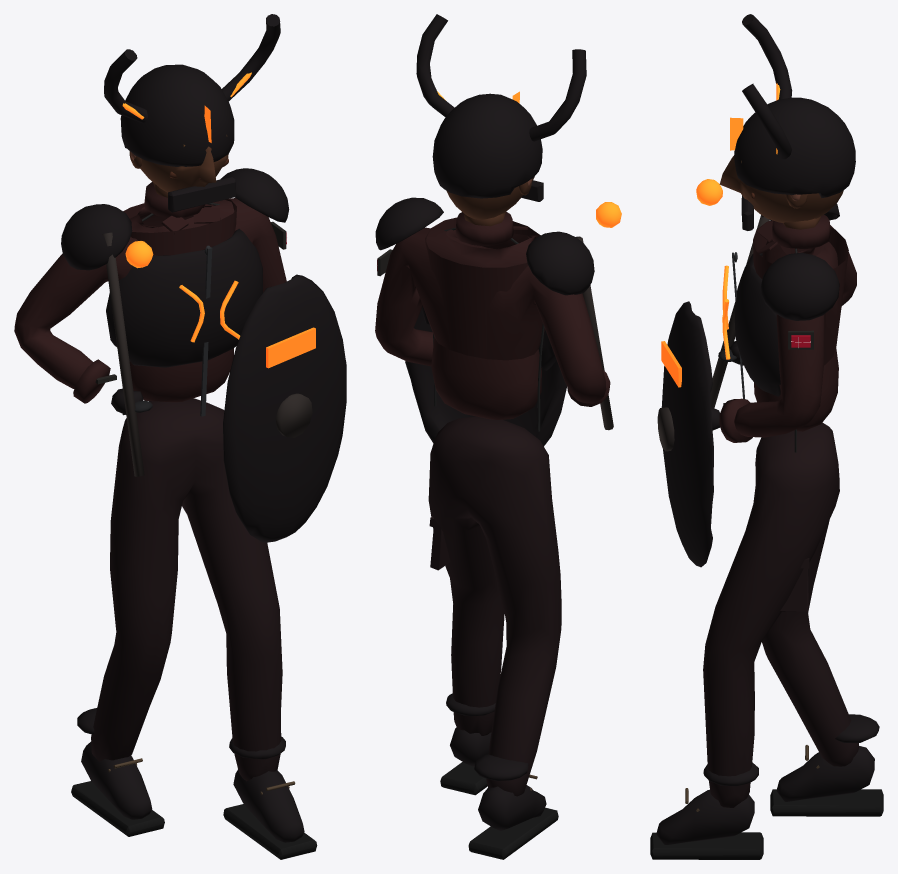
The model's file is enhed_lava.glb.
The picture shows the model from 3 angles, left to right: view 1: azimuth 30°, elevation 25°; view 2: azimuth 150°, elevation 25°; view 3: azimuth 270°, elevation 25°; orthographic projection. The views are drawn at different scales.
Parts seen in each view (by area): view 1: krop_net; view 2: krop_net; view 3: krop_net.
Part boxes in pixels (x1=…): krop_net: x1=14, y1=14, x2=346, y2=859; krop_net: x1=375, y1=14, x2=621, y2=859; krop_net: x1=650, y1=14, x2=883, y2=859.
Bounding box in the file's own units: 0.8184 × 2.34 × 0.6347.
